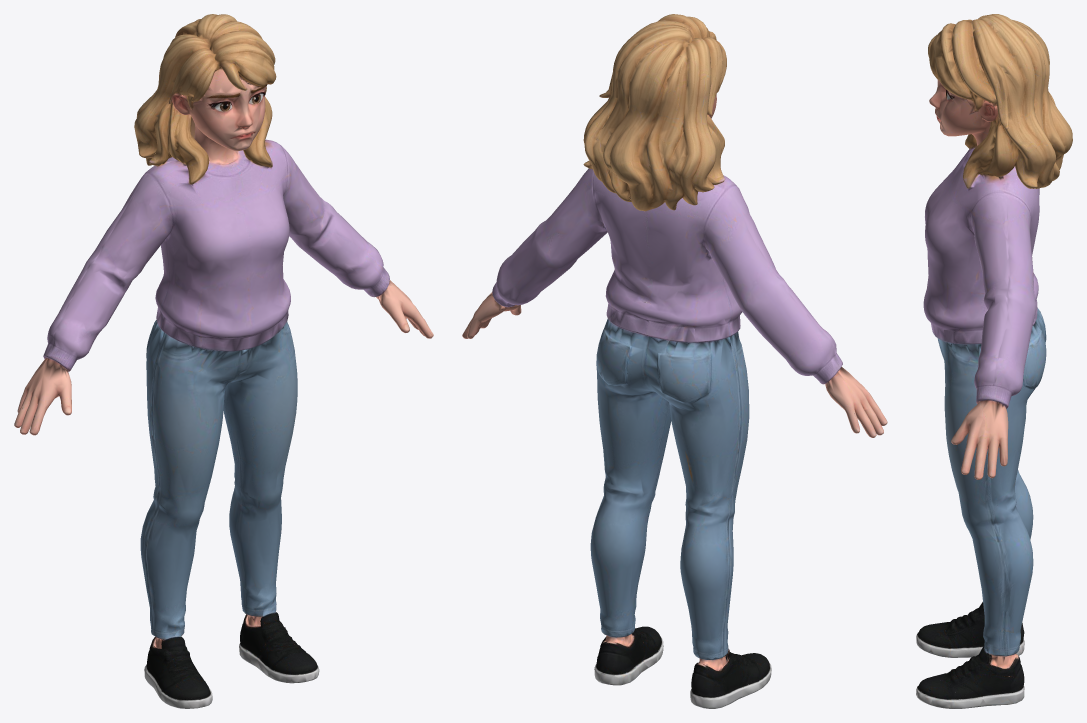
Rendered from sofi.glb.
3 views of the same model, side by side, from view 1: azimuth 30°, elevation 25°; view 2: azimuth 150°, elevation 25°; view 3: azimuth 270°, elevation 25° (orthographic).
Size of the model in its own units: 1.25 by 1.9 by 0.4125.
1 material, 1 textured.
